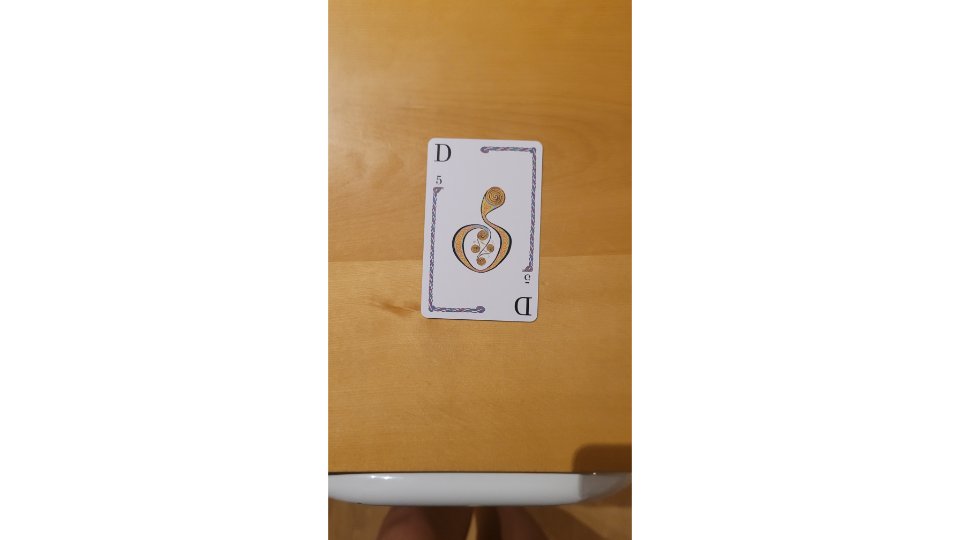D: (418, 134, 546, 323)
